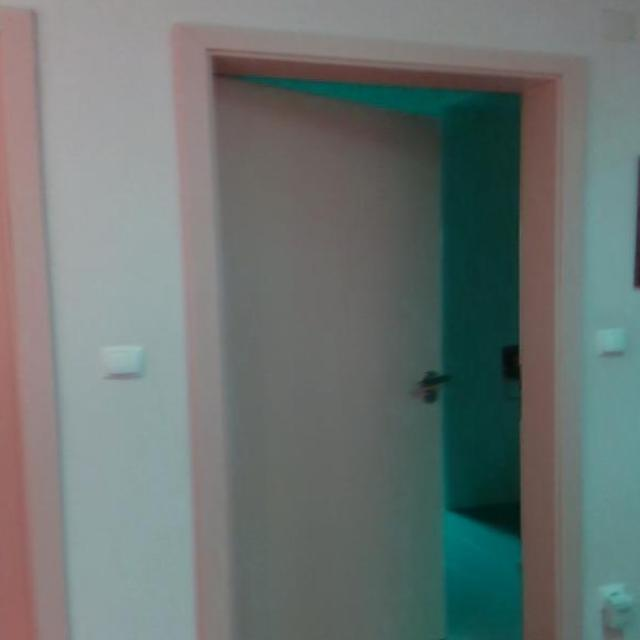door: (202, 35, 454, 640)
